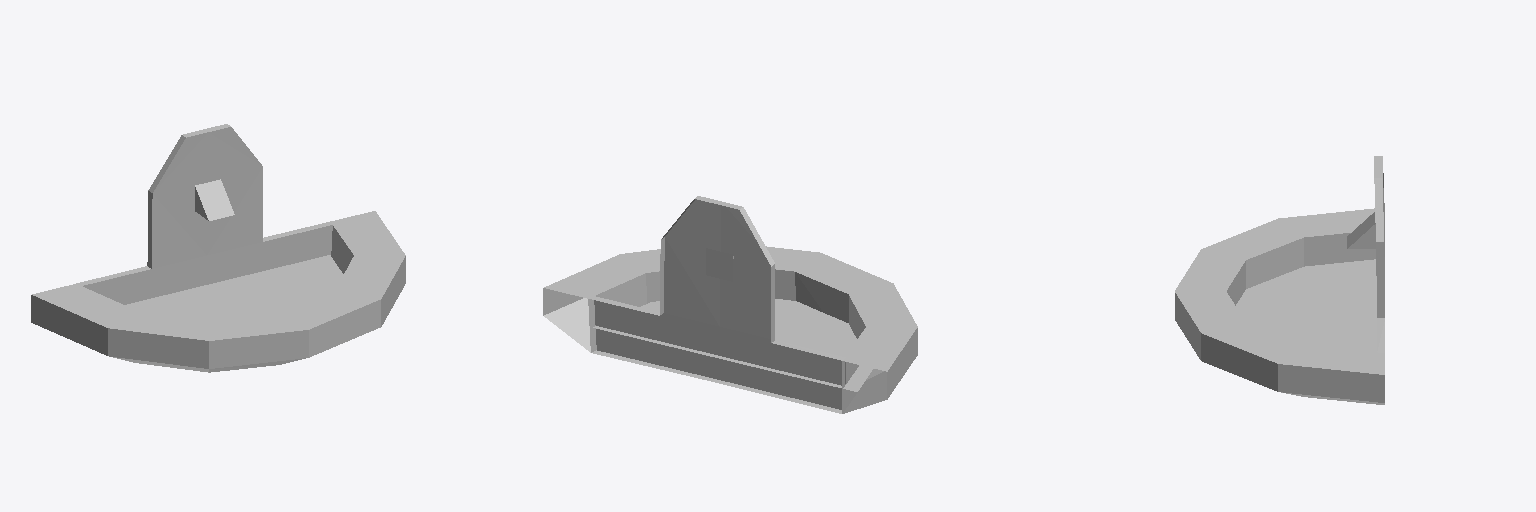
File: fountain.obj
3 renders of one model, left to right at view 1: azimuth 30°, elevation 25°; view 2: azimuth 150°, elevation 25°; view 3: azimuth 270°, elevation 25°, orthographic.
Visible parts, largest first — view 1: Geoset_001, Geoset_002, Geoset_000, Cube; view 2: Geoset_001, Geoset_002, Geoset_000, Cube; view 3: Geoset_001, Geoset_000, Geoset_002, Cube.
Part boxes in pixels (x1,y1,x2,y2): Geoset_001: (31,211,405,372); Geoset_002: (147,124,262,268); Geoset_000: (125,255,343,318); Cube: (195,179,234,220); Geoset_001: (543,246,917,413); Geoset_002: (660,196,774,342); Geoset_000: (593,299,873,391); Cube: (706,248,733,281); Geoset_001: (1175,208,1384,404); Geoset_000: (1236,259,1376,351); Geoset_002: (1374,156,1384,317); Cube: (1347,212,1375,248).
Bounding box in the file's own units: 5.28 × 2.62 × 2.8.